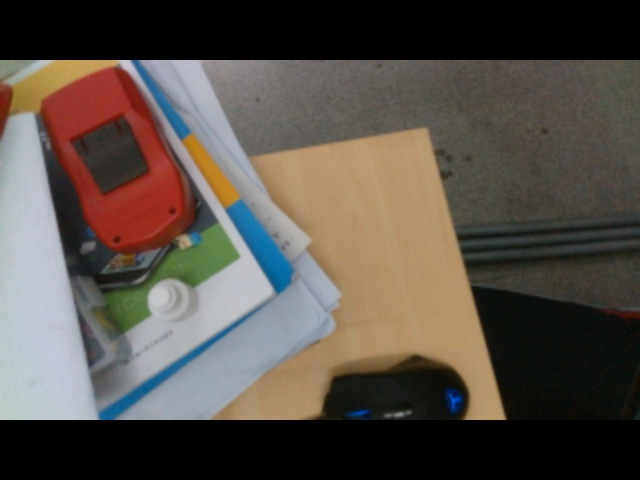Multimeter: (39, 64, 207, 255)
Screw holes: (168, 206, 178, 216), (109, 236, 121, 243)
